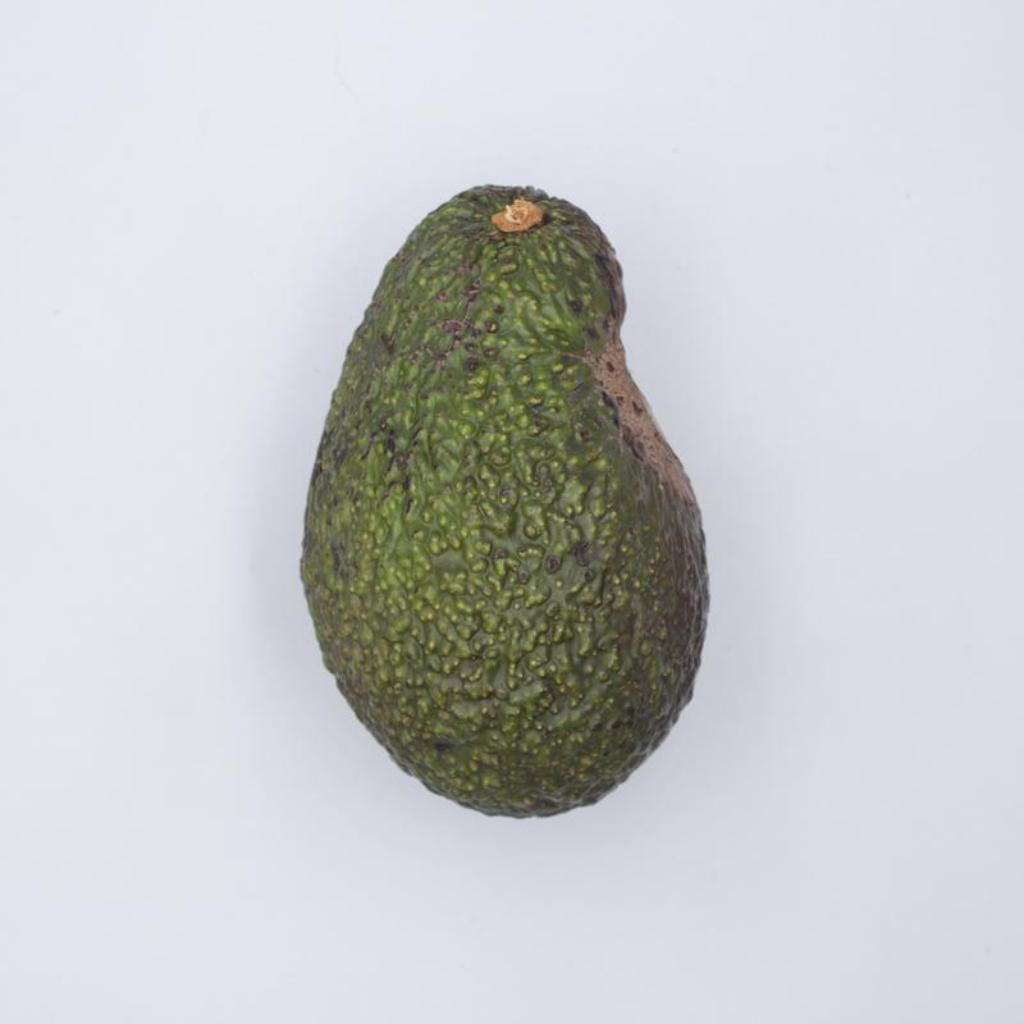rona: (301, 187, 708, 817)
